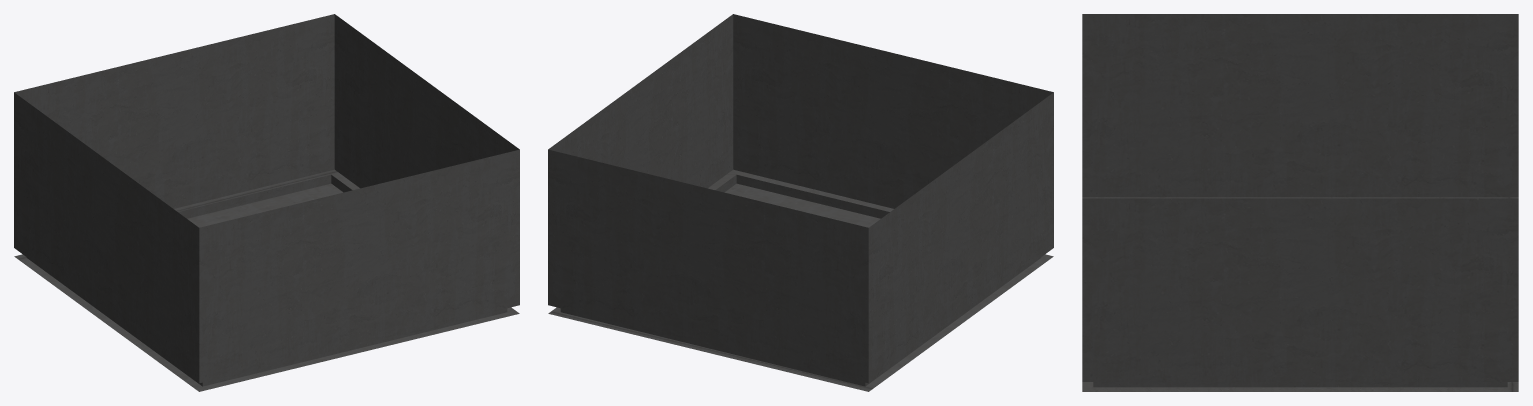
3 views of the same model, side by side, from view 1: azimuth 30°, elevation 25°; view 2: azimuth 150°, elevation 25°; view 3: azimuth 270°, elevation 25° (orthographic). The views are drawn at different scales.
Visible parts, largest first — view 1: Plane; view 2: Plane; view 3: Plane.
Part boxes in pixels (x1=…): Plane: x1=14, y1=14, x2=519, y2=391; Plane: x1=548, y1=14, x2=1053, y2=391; Plane: x1=1082, y1=14, x2=1518, y2=391.
Size of the model in its own units: 9.53 by 4.67 by 9.53.
1 material, 1 textured.
